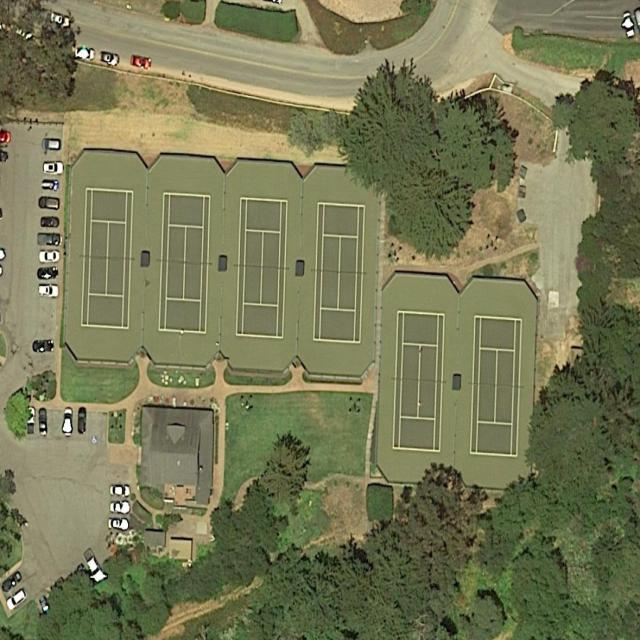small-vehicle: (82, 547, 106, 586), (5, 588, 28, 612), (1, 571, 22, 594), (47, 10, 71, 30), (37, 232, 63, 248), (622, 10, 636, 38), (36, 265, 59, 281), (130, 55, 151, 71), (42, 161, 64, 176), (38, 196, 59, 211), (33, 339, 54, 353), (37, 285, 59, 298), (41, 178, 60, 193), (99, 52, 119, 66), (25, 407, 35, 435), (75, 47, 94, 61), (64, 408, 73, 437), (110, 501, 130, 514), (109, 519, 129, 531), (77, 409, 86, 435), (39, 251, 60, 262), (110, 486, 131, 497), (41, 139, 60, 151), (39, 409, 47, 437), (41, 217, 59, 228)
